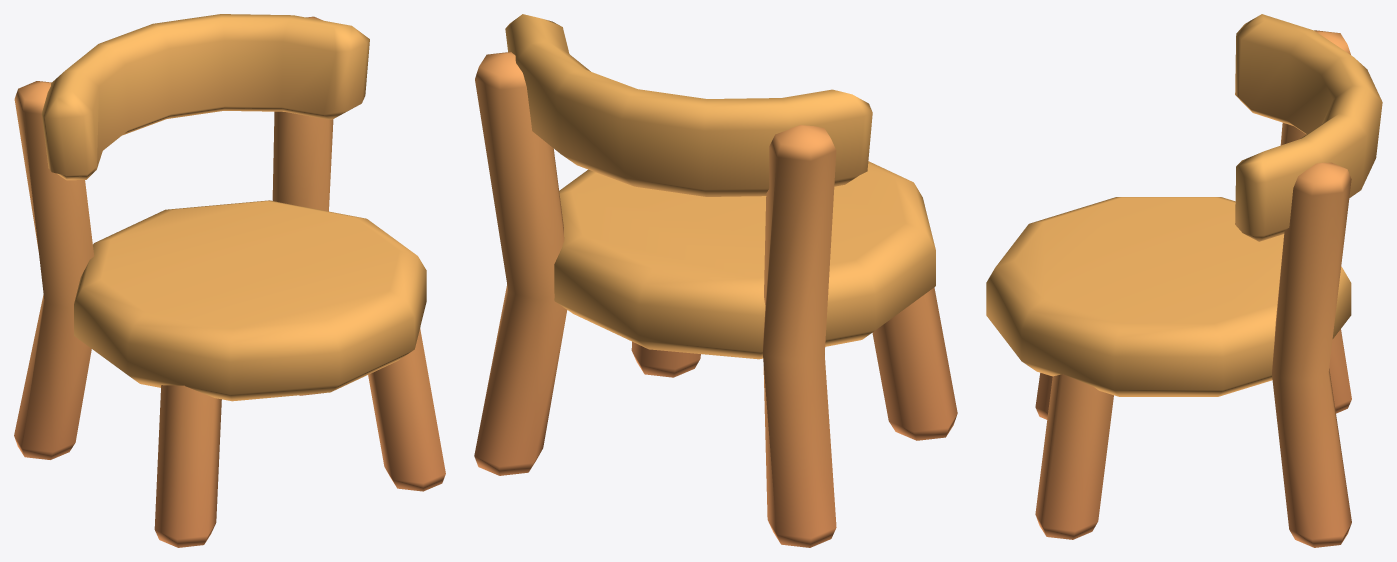
The model's file is Furniture_Chair_08.fbx.
The picture shows the model from 3 angles, left to right: view 1: azimuth 30°, elevation 25°; view 2: azimuth 150°, elevation 25°; view 3: azimuth 270°, elevation 25°; orthographic projection. The views are drawn at different scales.
Visible parts, largest first — view 1: Furniture_Chair_08; view 2: Furniture_Chair_08; view 3: Furniture_Chair_08.
Part boxes in pixels (left/top/right/bottom): Furniture_Chair_08: left=14, top=14, right=445, bottom=547; Furniture_Chair_08: left=474, top=14, right=957, bottom=547; Furniture_Chair_08: left=986, top=14, right=1382, bottom=547.
Bounding box in the file's own units: 72.07 × 80.17 × 74.71.
